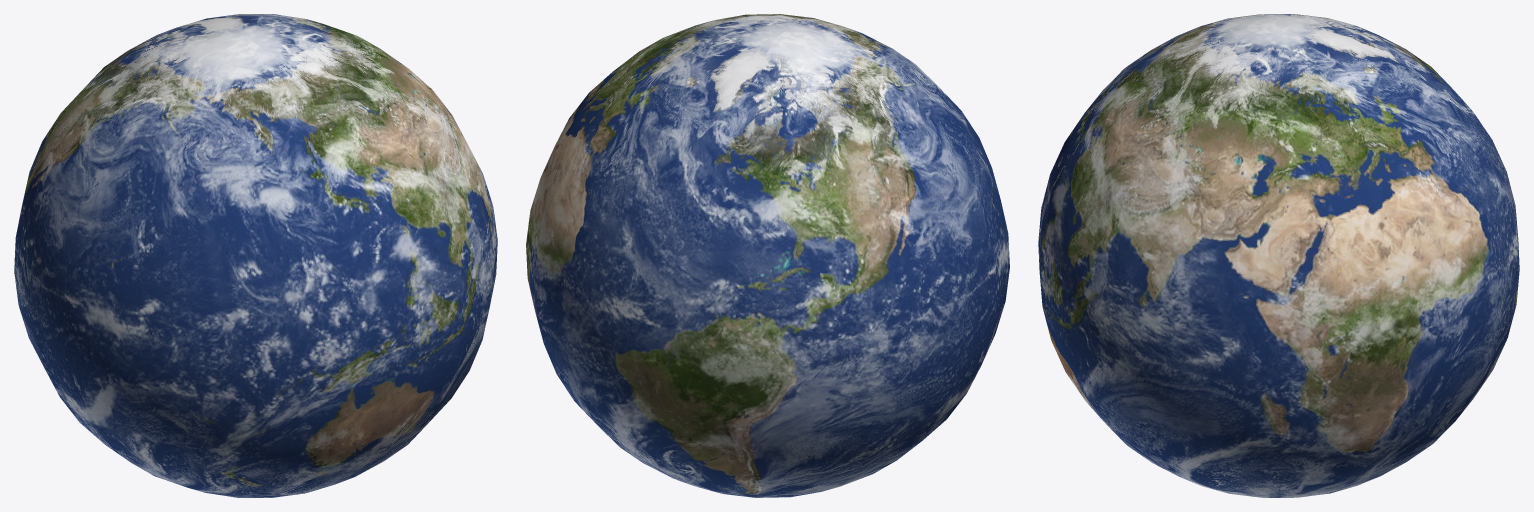
Rendered from earth.glb.
The picture shows the model from 3 angles, left to right: view 1: azimuth 30°, elevation 25°; view 2: azimuth 150°, elevation 25°; view 3: azimuth 270°, elevation 25°; orthographic projection.
Parts seen in each view (by area): view 1: Earth2; view 2: Earth2; view 3: Earth2.
Part boxes in pixels (bbox=[...]): Earth2: bbox=[14, 14, 497, 497]; Earth2: bbox=[526, 14, 1009, 497]; Earth2: bbox=[1038, 14, 1519, 497].
Size of the model in its own units: 0.1162 by 0.1173 by 0.1163.
1 material, 1 textured.
